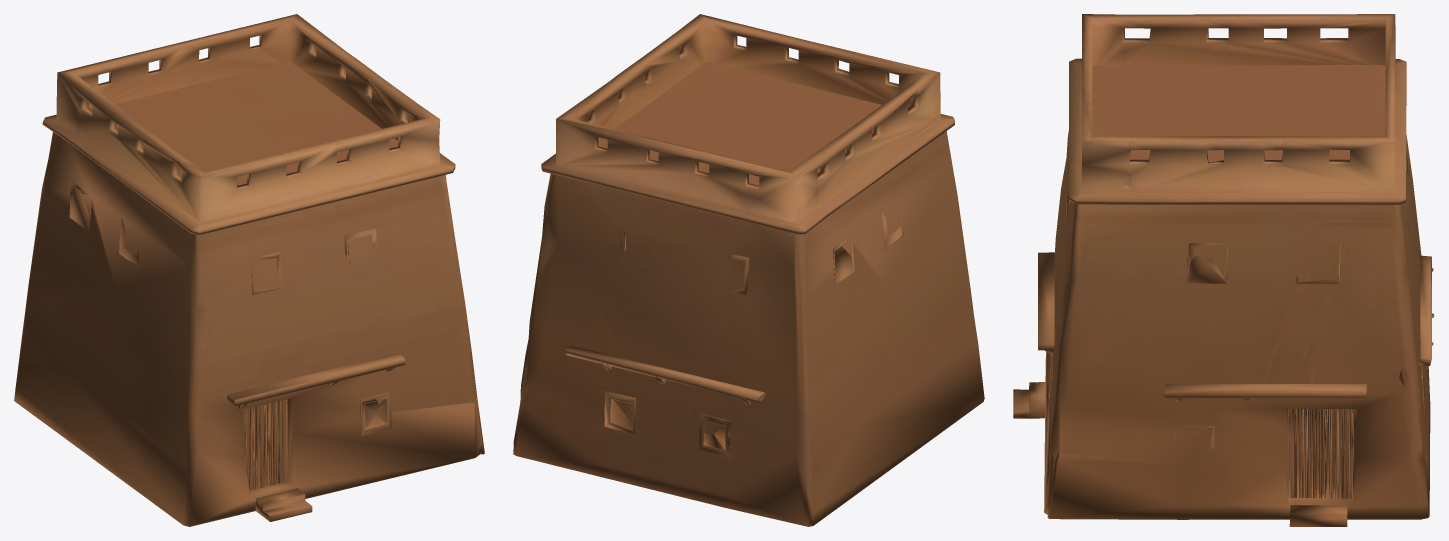
The picture shows the model from 3 angles, left to right: view 1: azimuth 30°, elevation 25°; view 2: azimuth 150°, elevation 25°; view 3: azimuth 270°, elevation 25°; orthographic projection. The views are drawn at different scales.
Size of the model in its own units: 0.893 by 0.8989 by 0.9482.
Materials: 1 (1 with a texture image).
